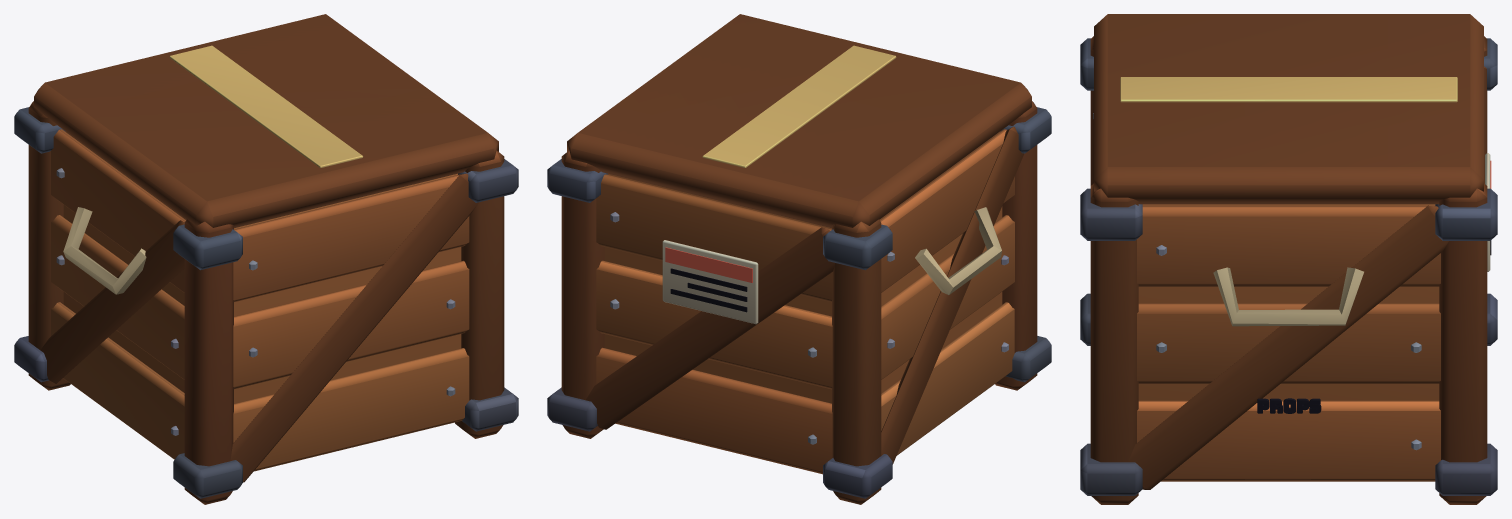
File: SM_Prop_PropCrate.fbx
3 renders of one model, left to right at view 1: azimuth 30°, elevation 25°; view 2: azimuth 150°, elevation 25°; view 3: azimuth 270°, elevation 25°, orthographic. The views are drawn at different scales.
Visible parts, largest first — view 1: SM_Prop_PropCrate; view 2: SM_Prop_PropCrate; view 3: SM_Prop_PropCrate.
Part boxes in pixels (x1,y1,x2,y2): SM_Prop_PropCrate: (14, 14, 518, 504); SM_Prop_PropCrate: (547, 14, 1051, 504); SM_Prop_PropCrate: (1080, 14, 1497, 504).
Size of the model in its own units: 68.63 by 55.53 by 62.3.
